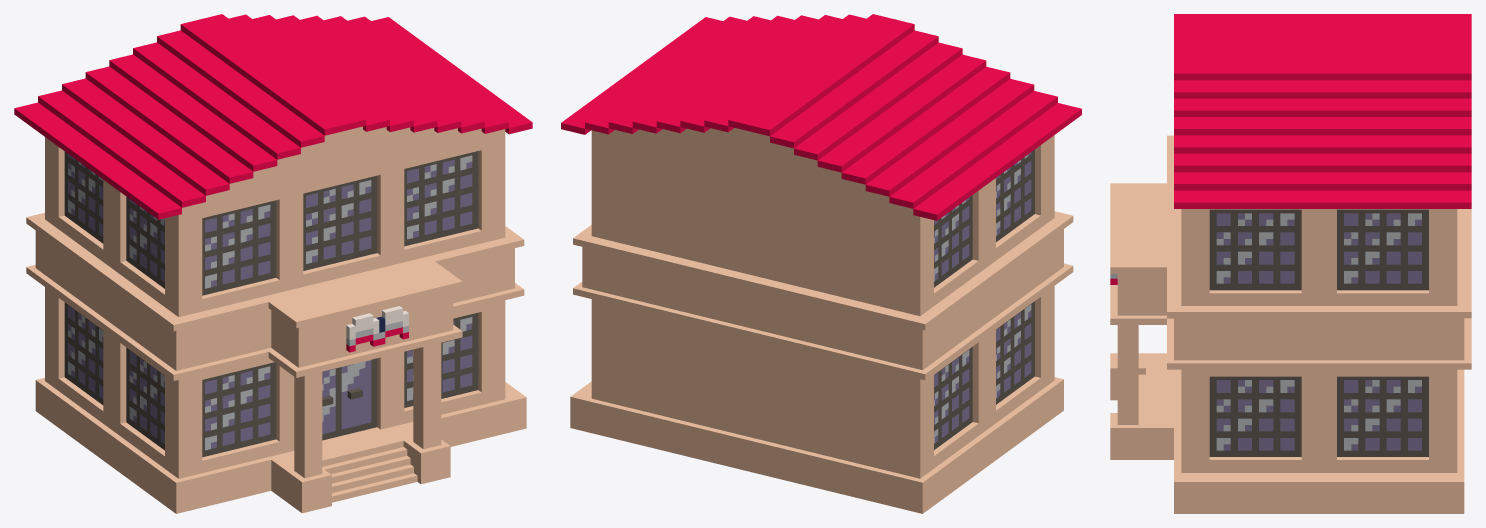
Rendered from library_b.obj.
3 renders of one model, left to right at view 1: azimuth 30°, elevation 25°; view 2: azimuth 150°, elevation 25°; view 3: azimuth 270°, elevation 25°, orthographic. The views are drawn at different scales.
Size of the model in its own units: 6.3 by 5.6 by 5.1.
1 material, 1 textured.
